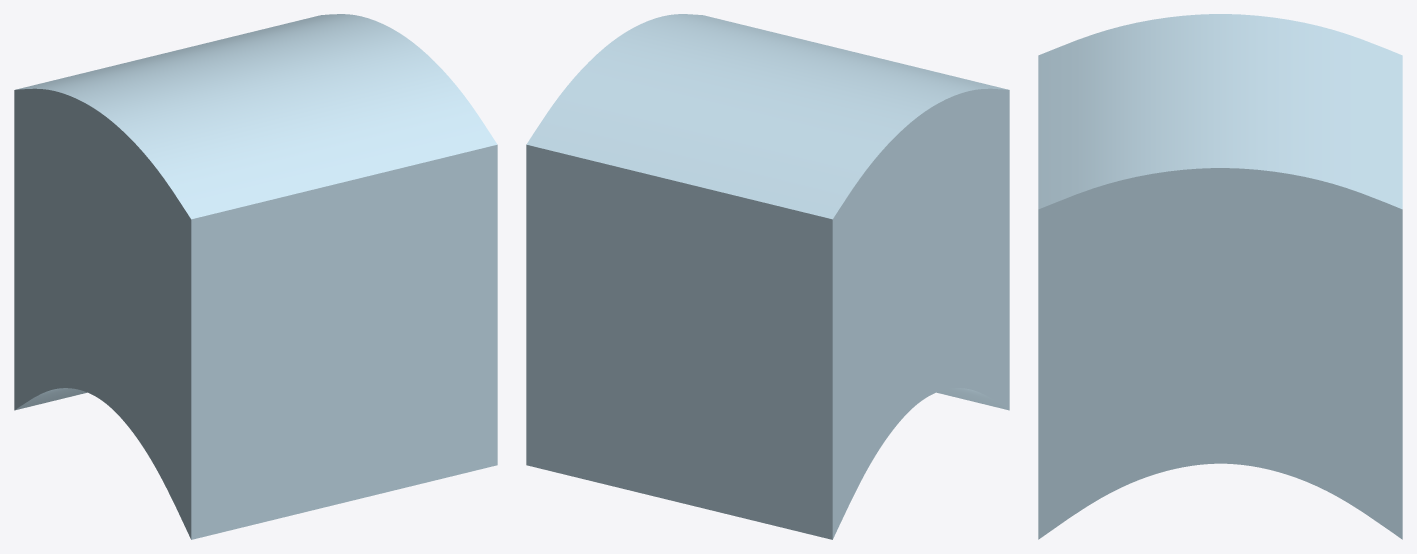
Rendered from curlDice.gltf.
The picture shows the model from 3 angles, left to right: view 1: azimuth 30°, elevation 25°; view 2: azimuth 150°, elevation 25°; view 3: azimuth 270°, elevation 25°; orthographic projection. The views are drawn at different scales.
Parts seen in each view (by area): view 1: Part 1; view 2: Part 1; view 3: Part 1.
Boxes of the visible parts, bbox=[...] form: Part 1: bbox=[14, 14, 497, 539]; Part 1: bbox=[526, 14, 1009, 539]; Part 1: bbox=[1038, 14, 1402, 539].
Size of the model in its own units: 0.06 by 0.0675 by 0.06.
